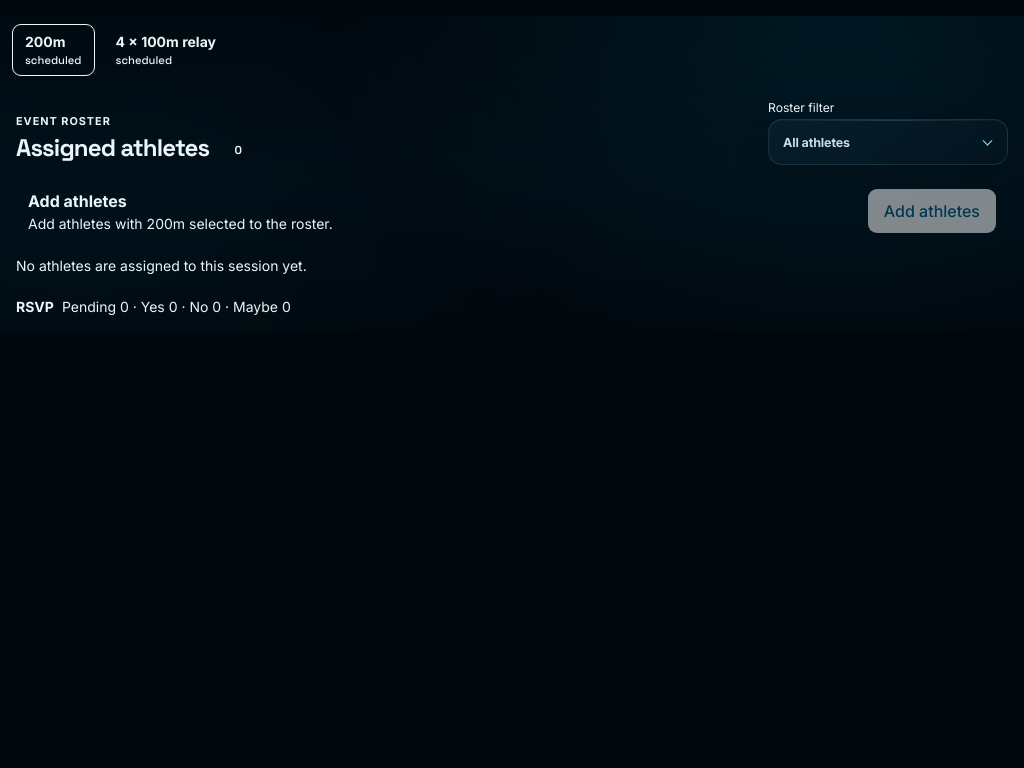
it: MeetRosterPanel › shows the pending RSVP dropdown for every athlete in the relay pool
Step 1. Click the tab "4 x 100m relay scheduled" → (166, 50), box [102,24,229,76]
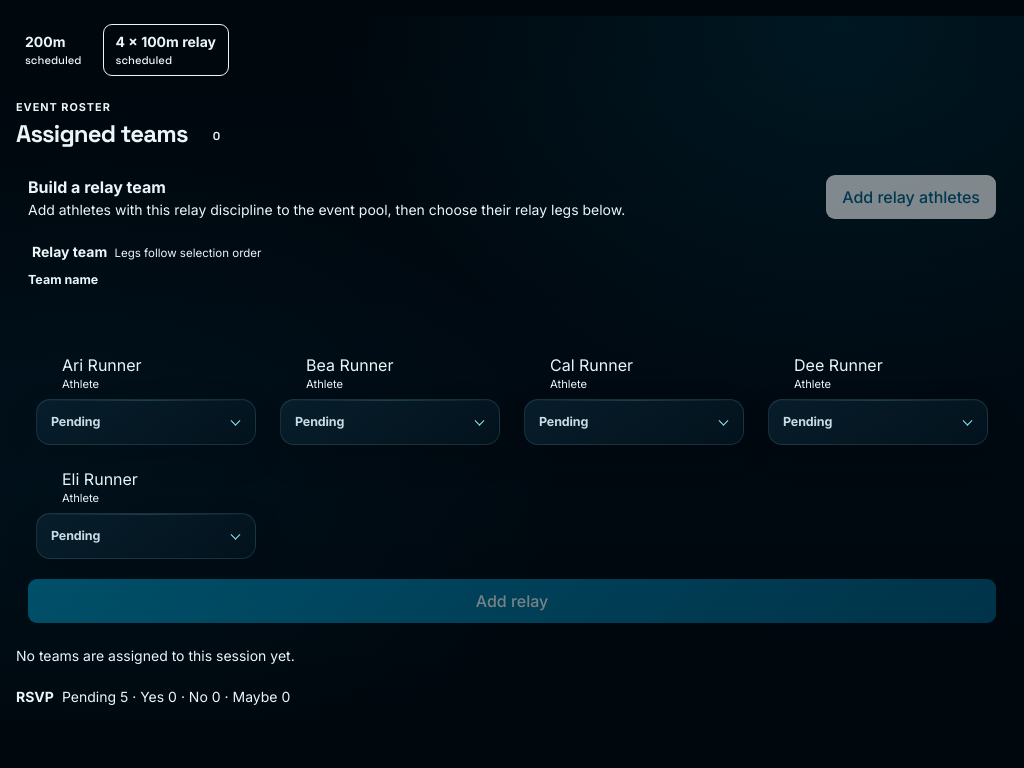
Now the element "Relay team" is shown, box [16,243,1008,635]
Now the button with aria-label "RSVP for Ari Runner" is shown
Now the button with aria-label "RSVP for Bea Runner" is shown, box [281,400,499,444]
Step 2. Click the button with aria-label "RSVP for Ari Runner" → (146, 422), box [37,400,255,444]
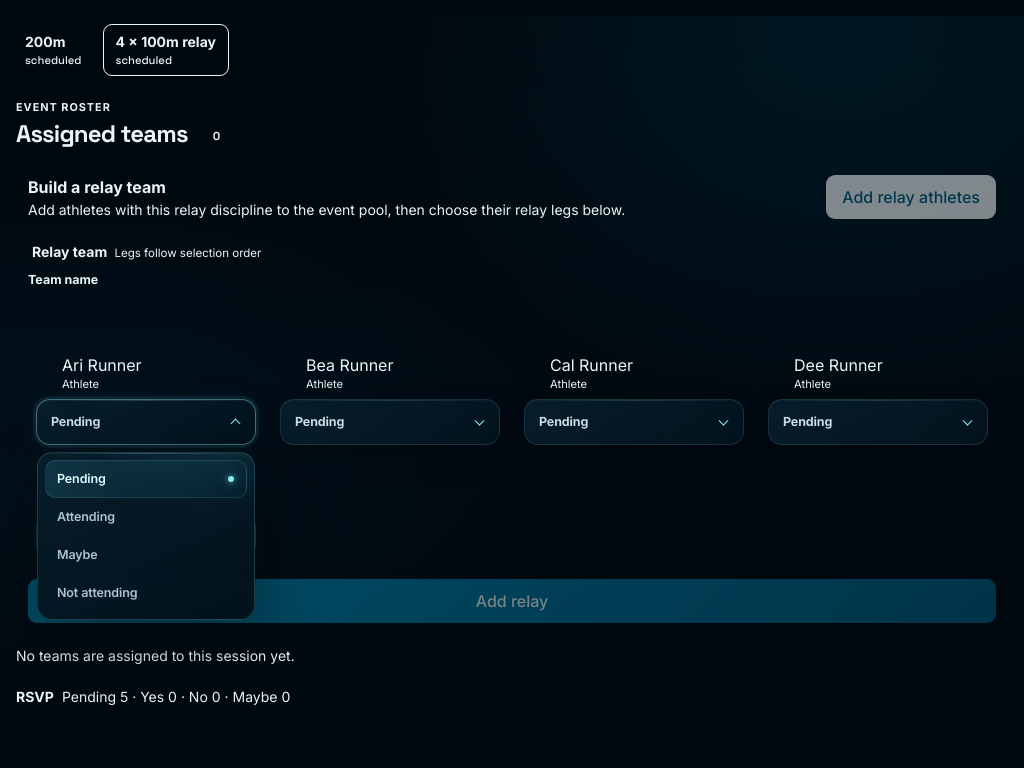
Step 3. Click the option "Attending" → (146, 517), box [45,498,247,536]
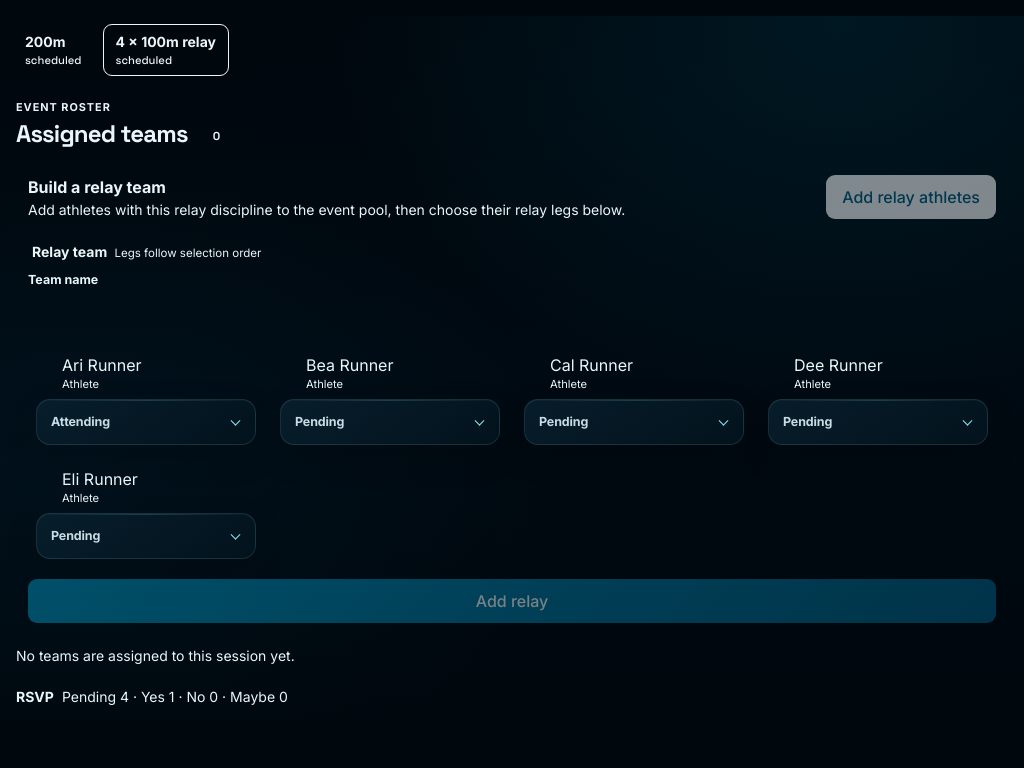
Now the text "Pending 4 · Yes 1 · No 0 · Maybe 0" is shown, box [62,688,288,704]
